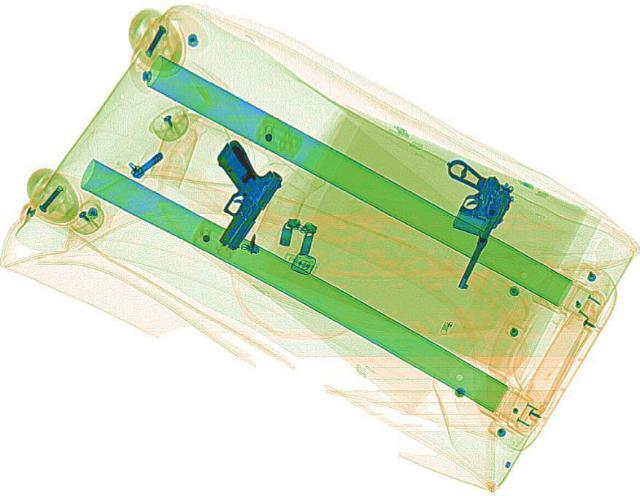Gun: (390, 154, 524, 288), (166, 135, 298, 251)
